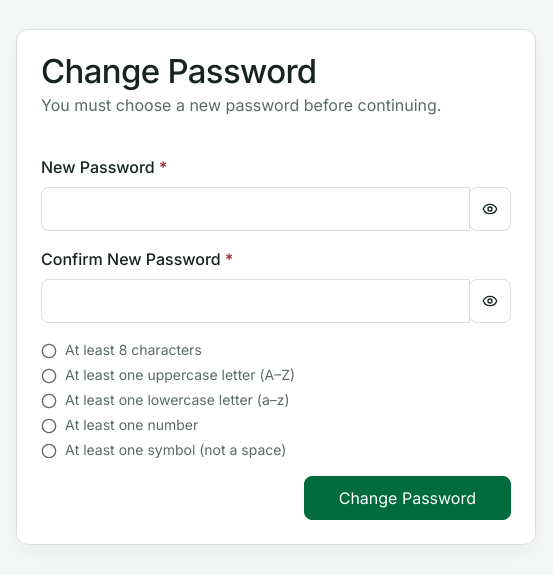
Issue 3 Change Password › UI-04 shows restricted fields, validates confirmation, and requires fresh login @issue-3
Type "NewPass1!" into the password field labelled "New Password *" at x=256, y=209, box left=41, top=187, right=470, bottom=231
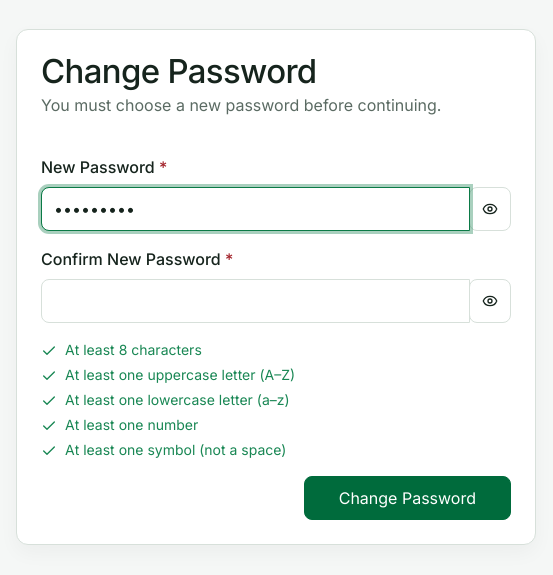
Type "Different1!" into the password field labelled "Confirm New Password *" at x=256, y=301, box left=41, top=279, right=470, bottom=323
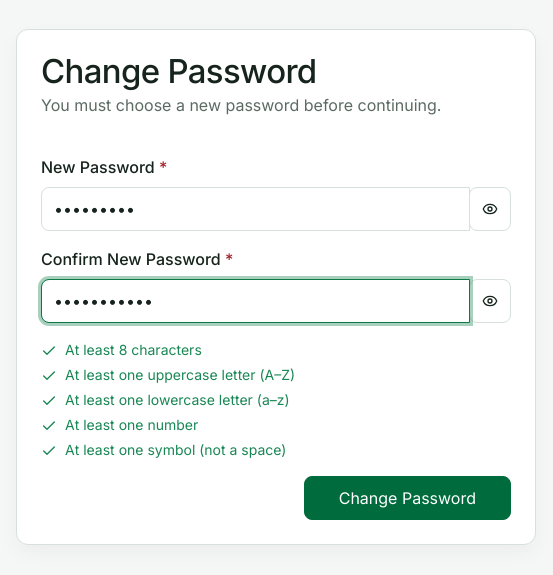
Click the button "Change Password" at x=407, y=498, box left=304, top=476, right=511, bottom=520
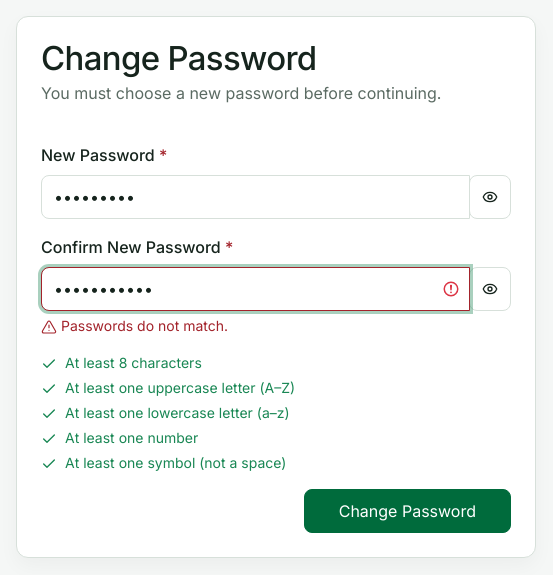
expect the text "Passwords do not match." is shown: met, box left=41, top=317, right=228, bottom=335
Type "NewPass1!" into the password field labelled "Confirm New Password *" at x=256, y=289, box left=41, top=267, right=470, bottom=311
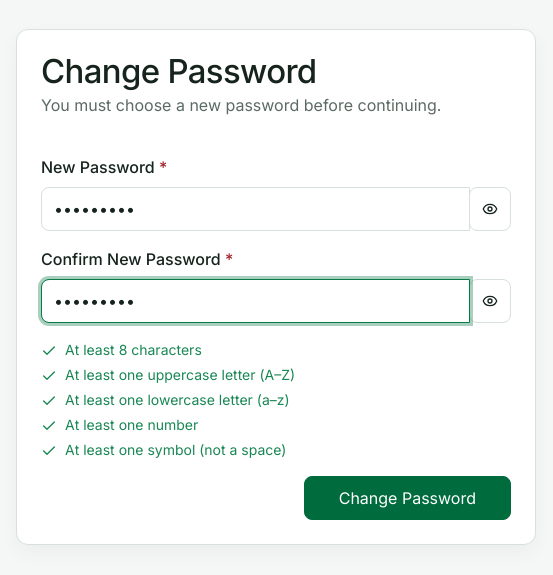
Click the button "Change Password" at x=407, y=498, box left=304, top=476, right=511, bottom=520
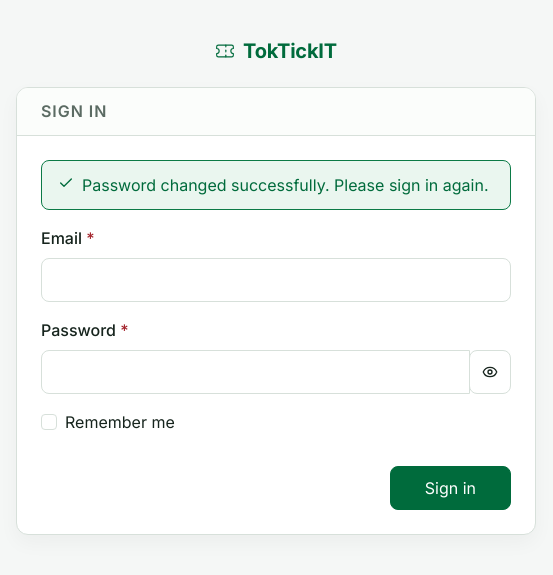
expect the heading "Sign in" is shown: met, box left=41, top=102, right=107, bottom=121
expect the text "Password changed successfully. Please sign in again." is shown: met, box left=82, top=173, right=488, bottom=197
